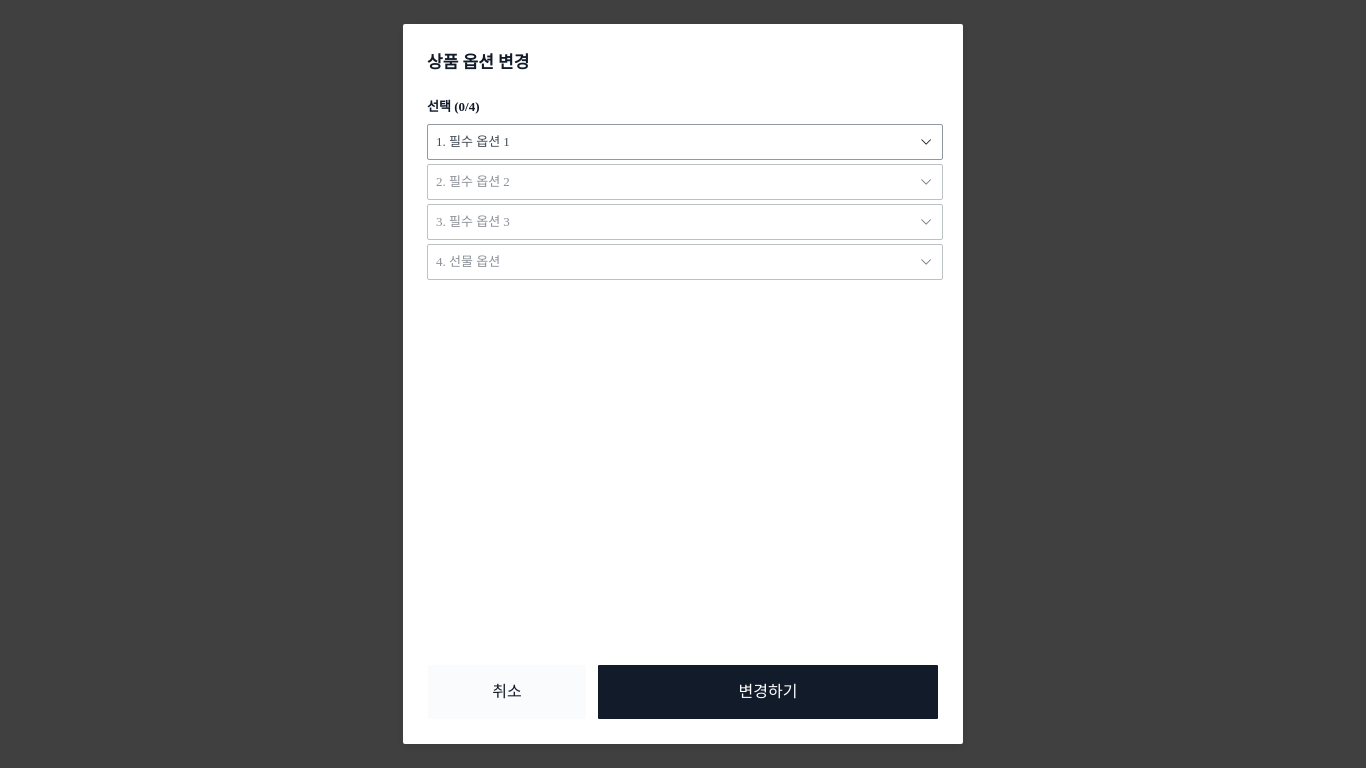
missing option submission focuses first control and does not save
Click the button "변경하기" at [768, 692], box x1=597 y1=664 x2=939 y2=720
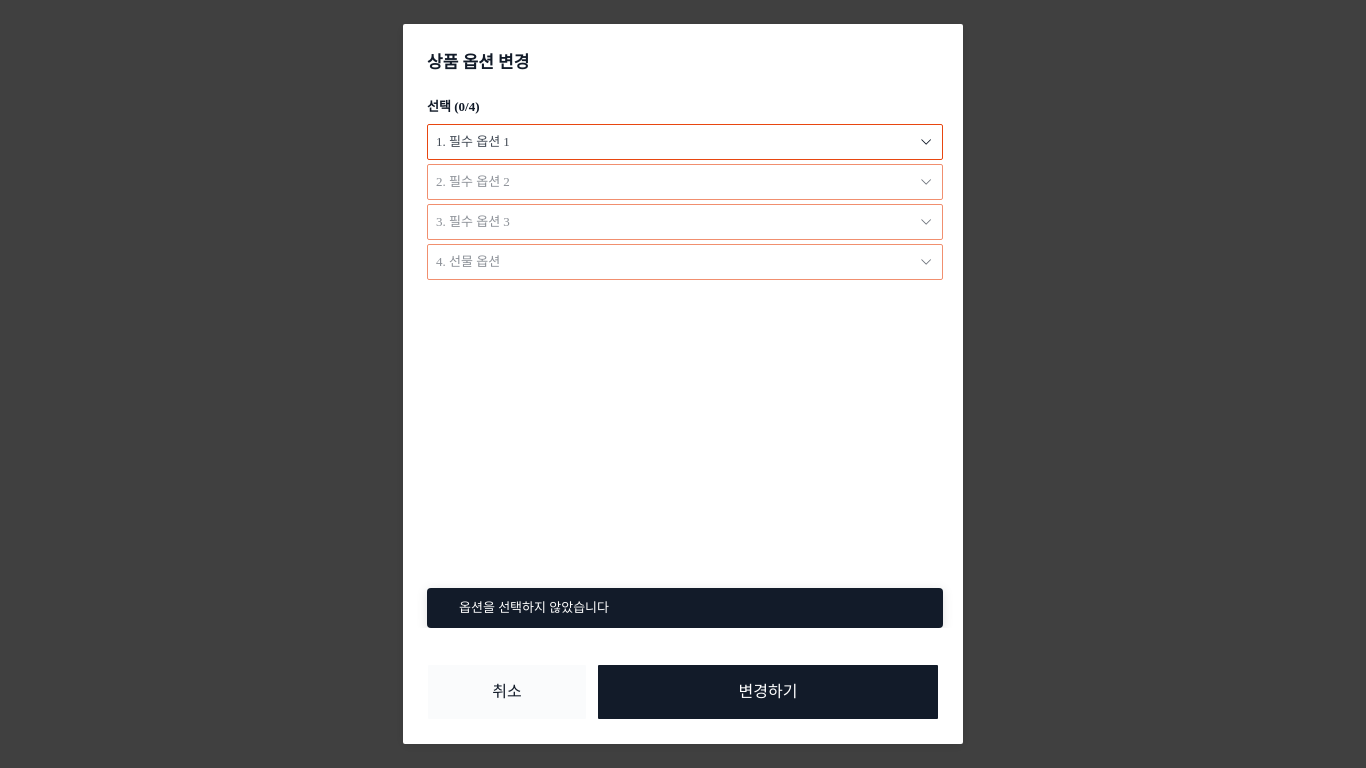
Expected: the text "옵션을 선택하지 않았습니다" is shown, x1=459 y1=600 x2=609 y2=615
